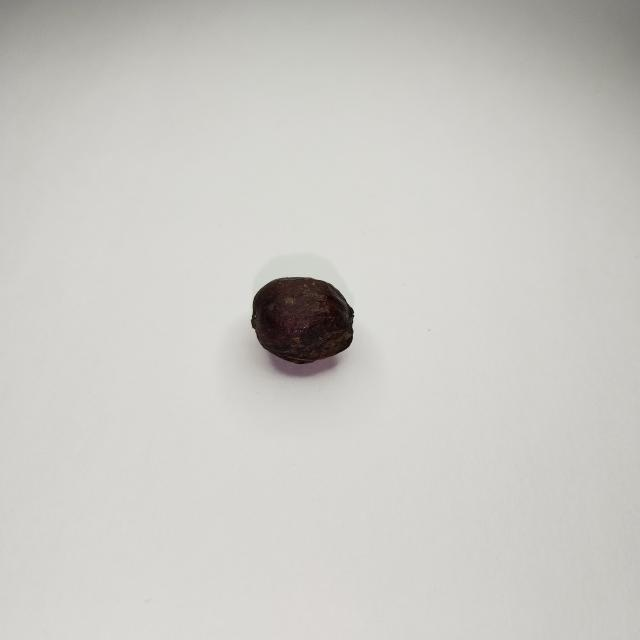Danado: (251, 278, 353, 363)
